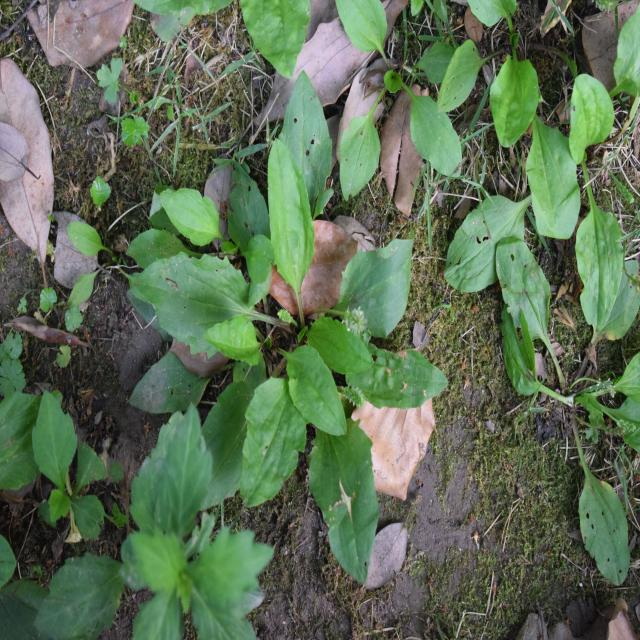plantain: (171, 158, 427, 582)
